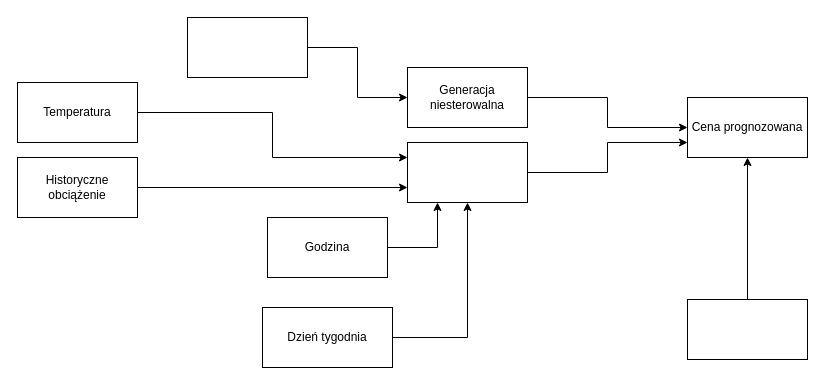
This 825x385 diagram has some shape labels left out. The shapes that lost their labels are listed below. From the top down, each one's centre as x and y in pixels, then its label:
point 247,47: Pogoda
point 467,172: Obciążenie
point 747,329: Ceny historyczne
